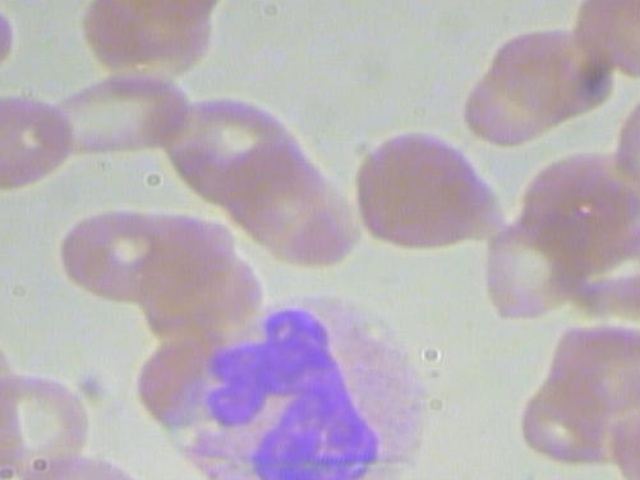RBC: (347, 128, 506, 252), (37, 66, 204, 159), (0, 88, 75, 192), (7, 450, 142, 480), (0, 0, 17, 104)
WBC: (148, 287, 442, 480)
